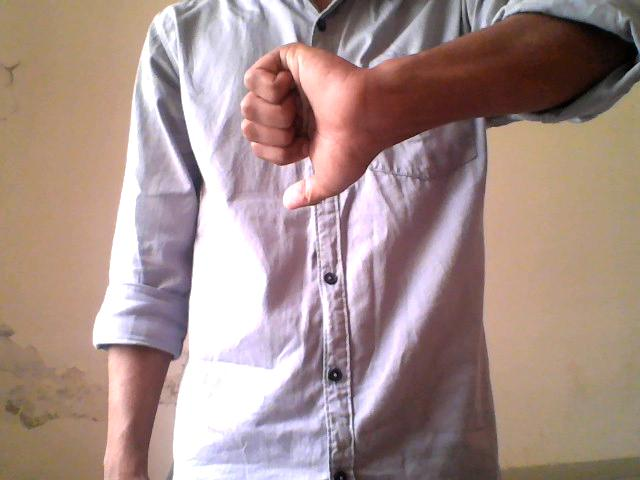thumbs-down: (214, 38, 423, 209)
